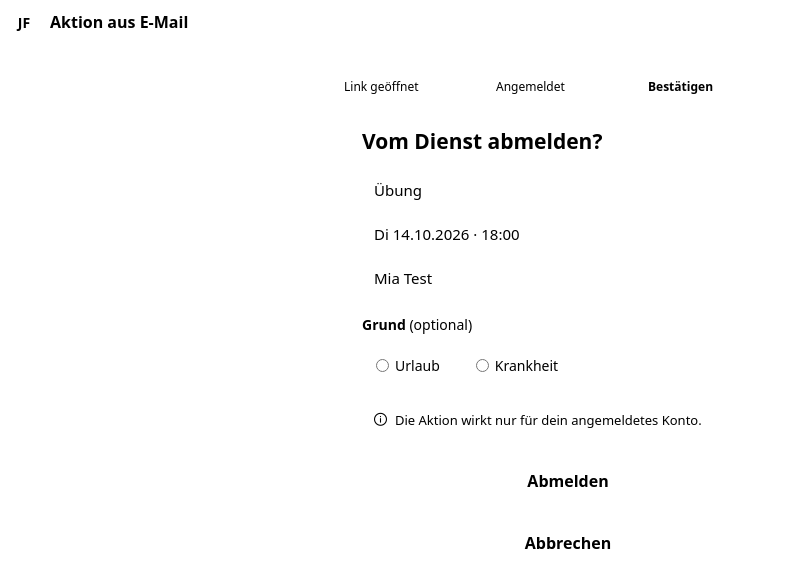
ActionLandingView › reports a failed execution without losing the page
The image size is (791, 566).
Step 1. Click the button "Abmelden" → (568, 481), box top-left (362, 455), bottom-right (774, 507)
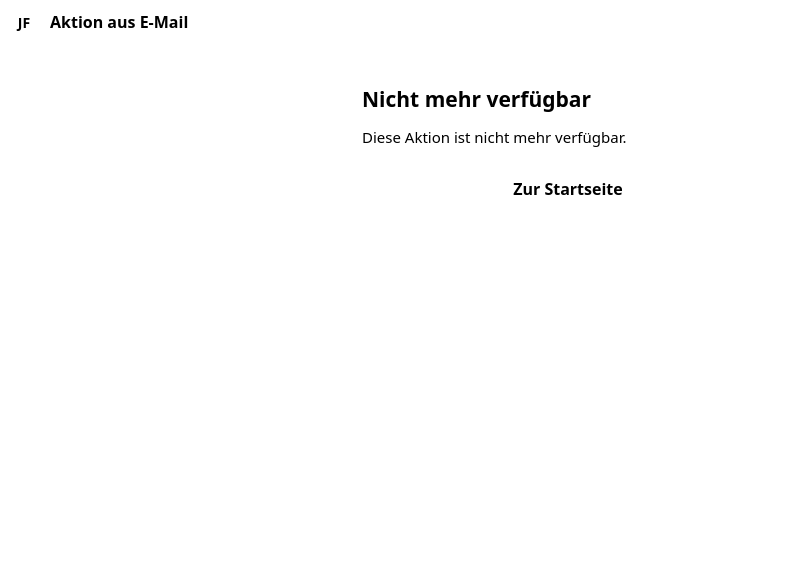
expect the heading "Nicht mehr verfügbar" is shown: met, box top-left (362, 85), bottom-right (591, 113)
